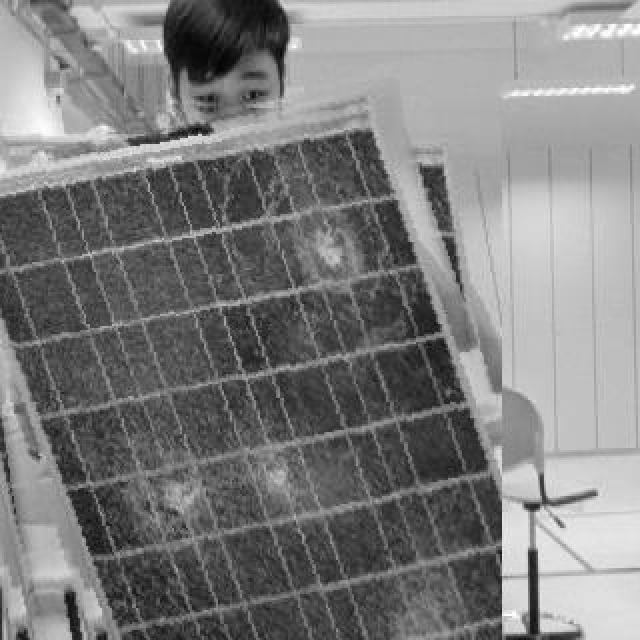Physical-damage: (266, 200, 391, 304), (115, 443, 227, 552), (246, 427, 311, 512)
